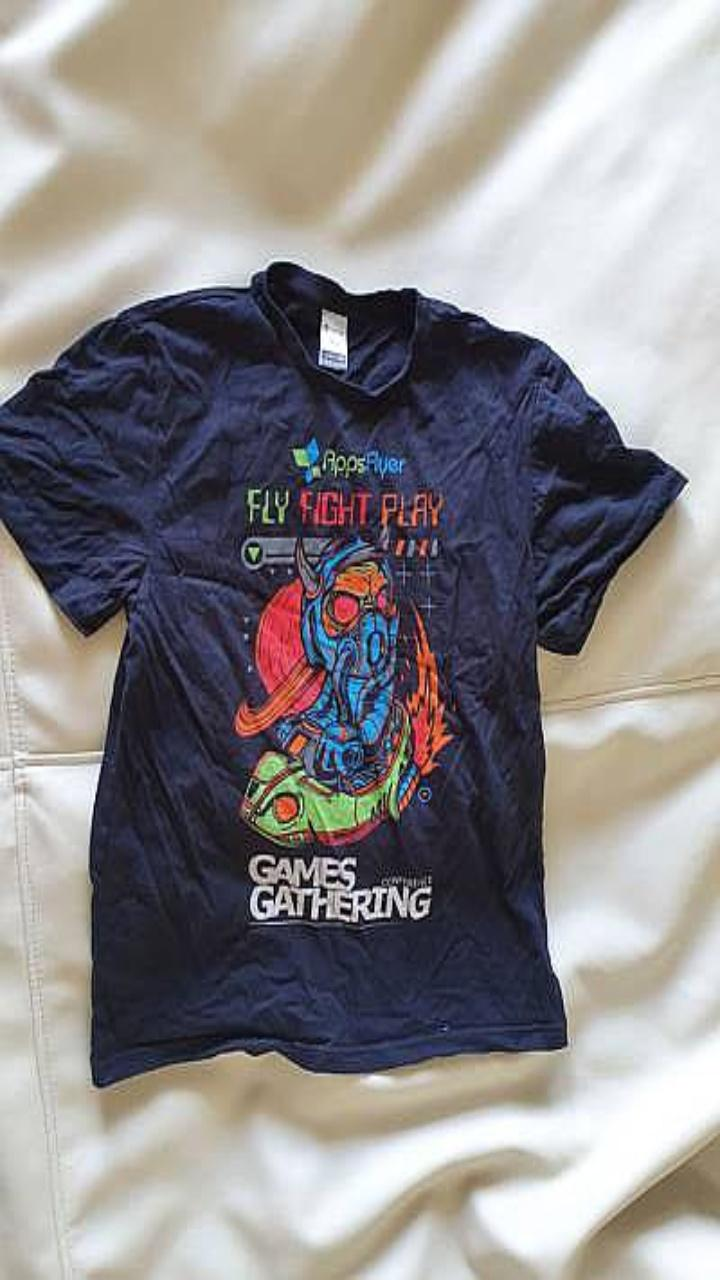T-Shirt: (0, 260, 687, 1086)
